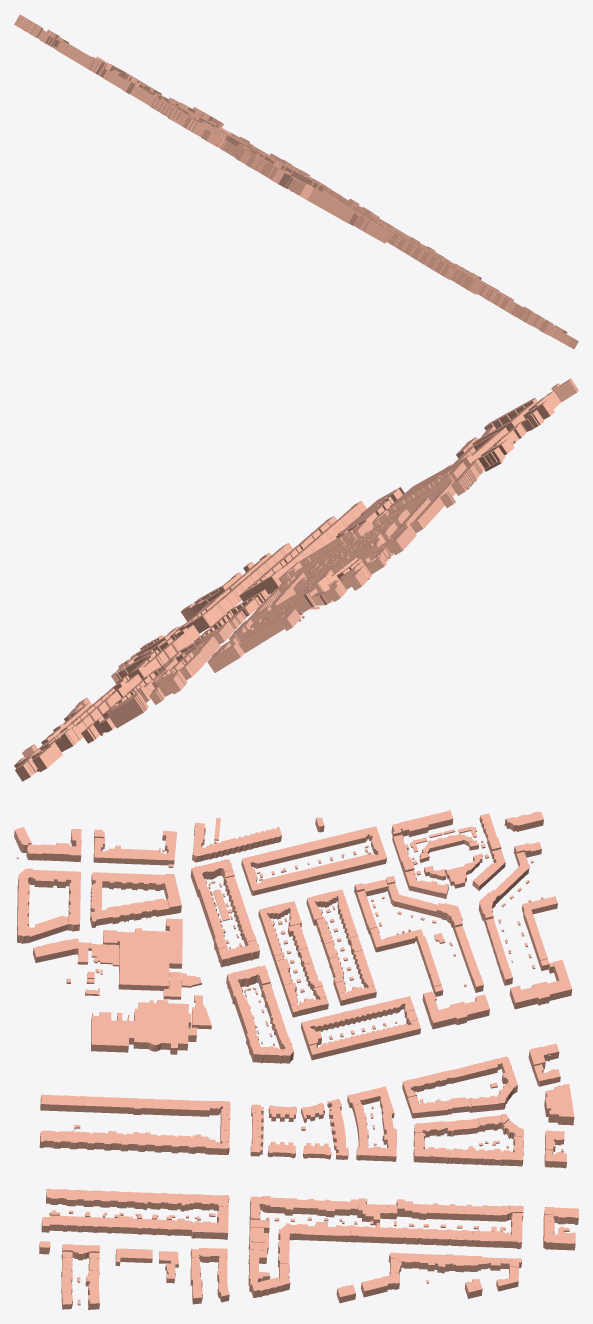
3 renders of one model, top to bottom at view 1: azimuth 30°, elevation 25°; view 2: azimuth 150°, elevation 25°; view 3: azimuth 270°, elevation 25°, orthographic. The views are drawn at different scales.
Bounding box in the file's own units: 535 × 389 × 641.
